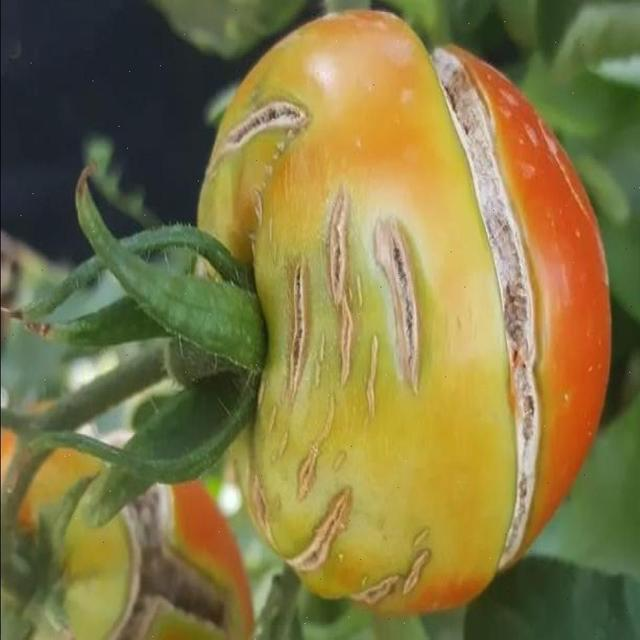Cracking Fruit: (30, 64, 325, 392)
